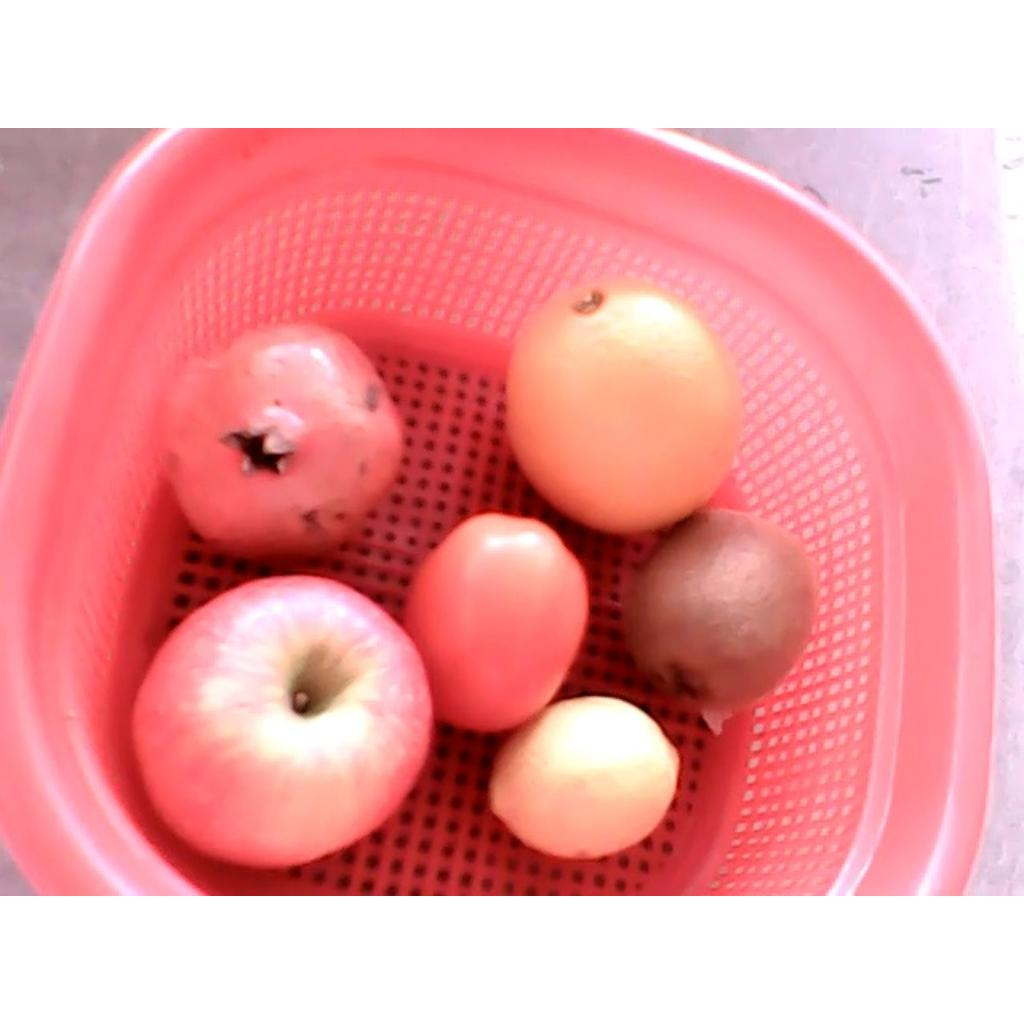apple: (132, 576, 432, 869)
kiwi: (624, 511, 818, 703)
lemon: (487, 695, 681, 860)
orange: (502, 279, 741, 529)
pomegranate: (152, 327, 401, 564)
tomato: (395, 512, 587, 729)
